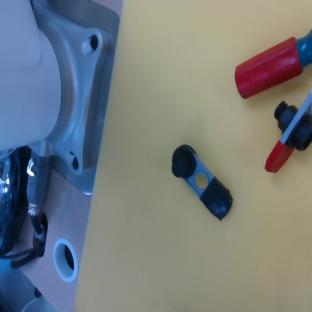part_1_bad: (162, 140, 240, 224)
part_1_good: (265, 90, 312, 172)
